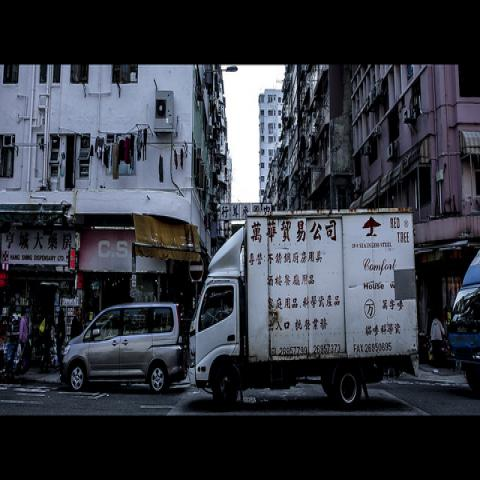car: (61, 303, 190, 395)
truck: (188, 208, 421, 409)
